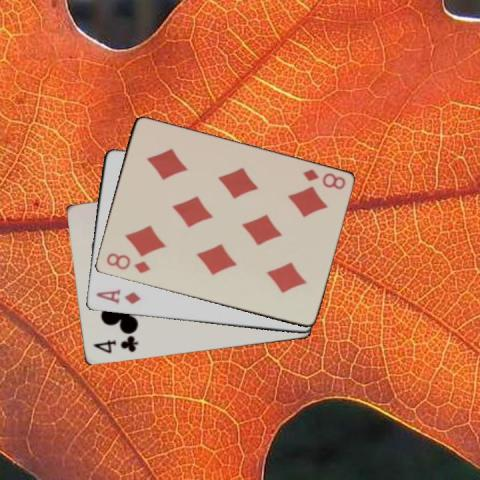4c: (90, 334, 139, 355)
8d: (103, 250, 152, 275), (299, 166, 347, 191)
Ad: (93, 287, 142, 305)
